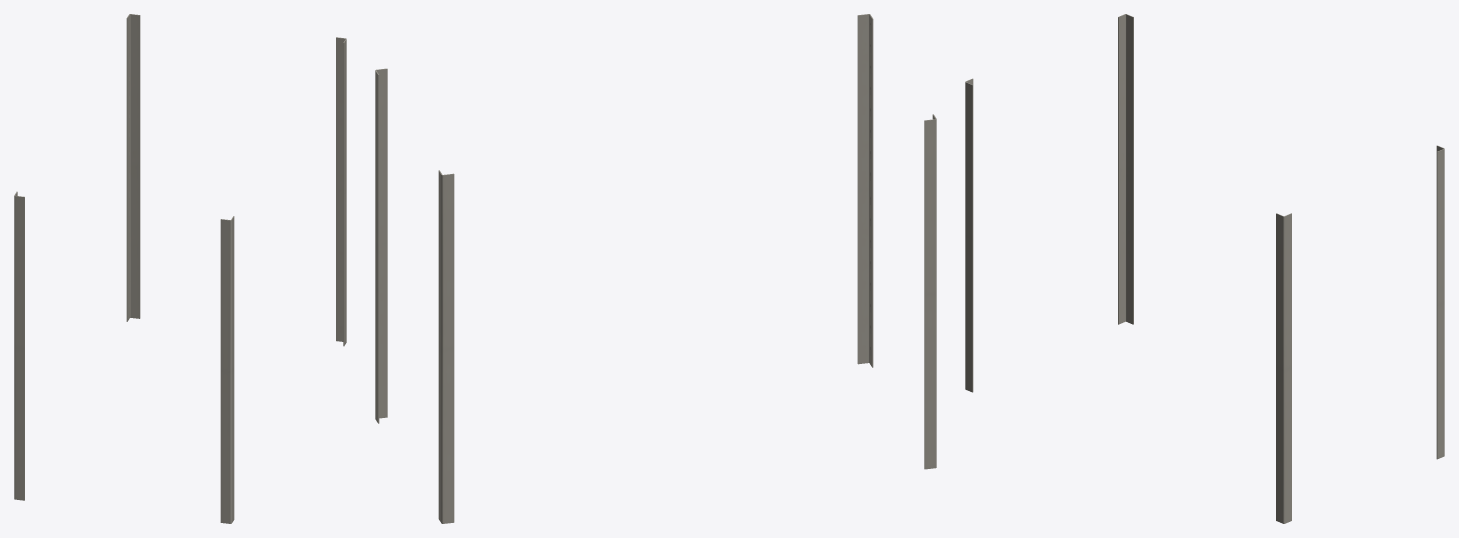
Rendered from shelf_0301_t50_h600_w800.glb.
3 views of the same model, side by side, from view 1: azimuth 30°, elevation 25°; view 2: azimuth 150°, elevation 25°; view 3: azimuth 270°, elevation 25° (orthographic). The views are drawn at different scales.
Visible parts, largest first — view 1: shelf_0301_t50_h600_w800; view 2: shelf_0301_t50_h600_w800; view 3: shelf_0301_t50_h600_w800.
Boxes of the visible parts, x1,y1,x2,y2 form: shelf_0301_t50_h600_w800: (14, 14, 346, 523); shelf_0301_t50_h600_w800: (375, 14, 936, 523); shelf_0301_t50_h600_w800: (965, 14, 1444, 523).
Size of the model in its own units: 0.8487 by 0.6 by 0.8487.
1 material, 1 textured.
